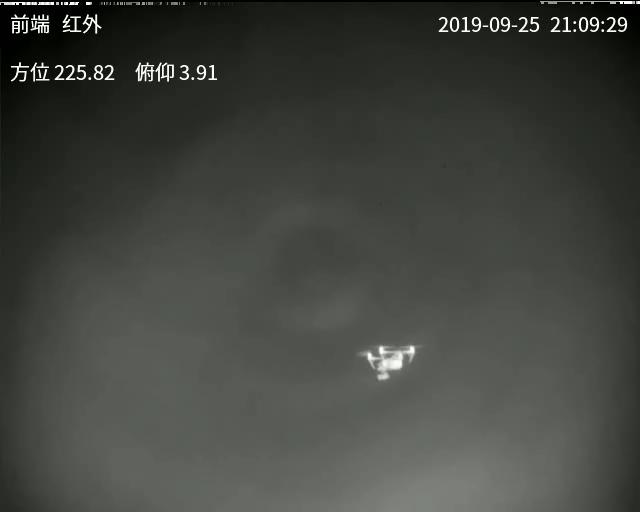uav: (359, 341, 415, 383)
